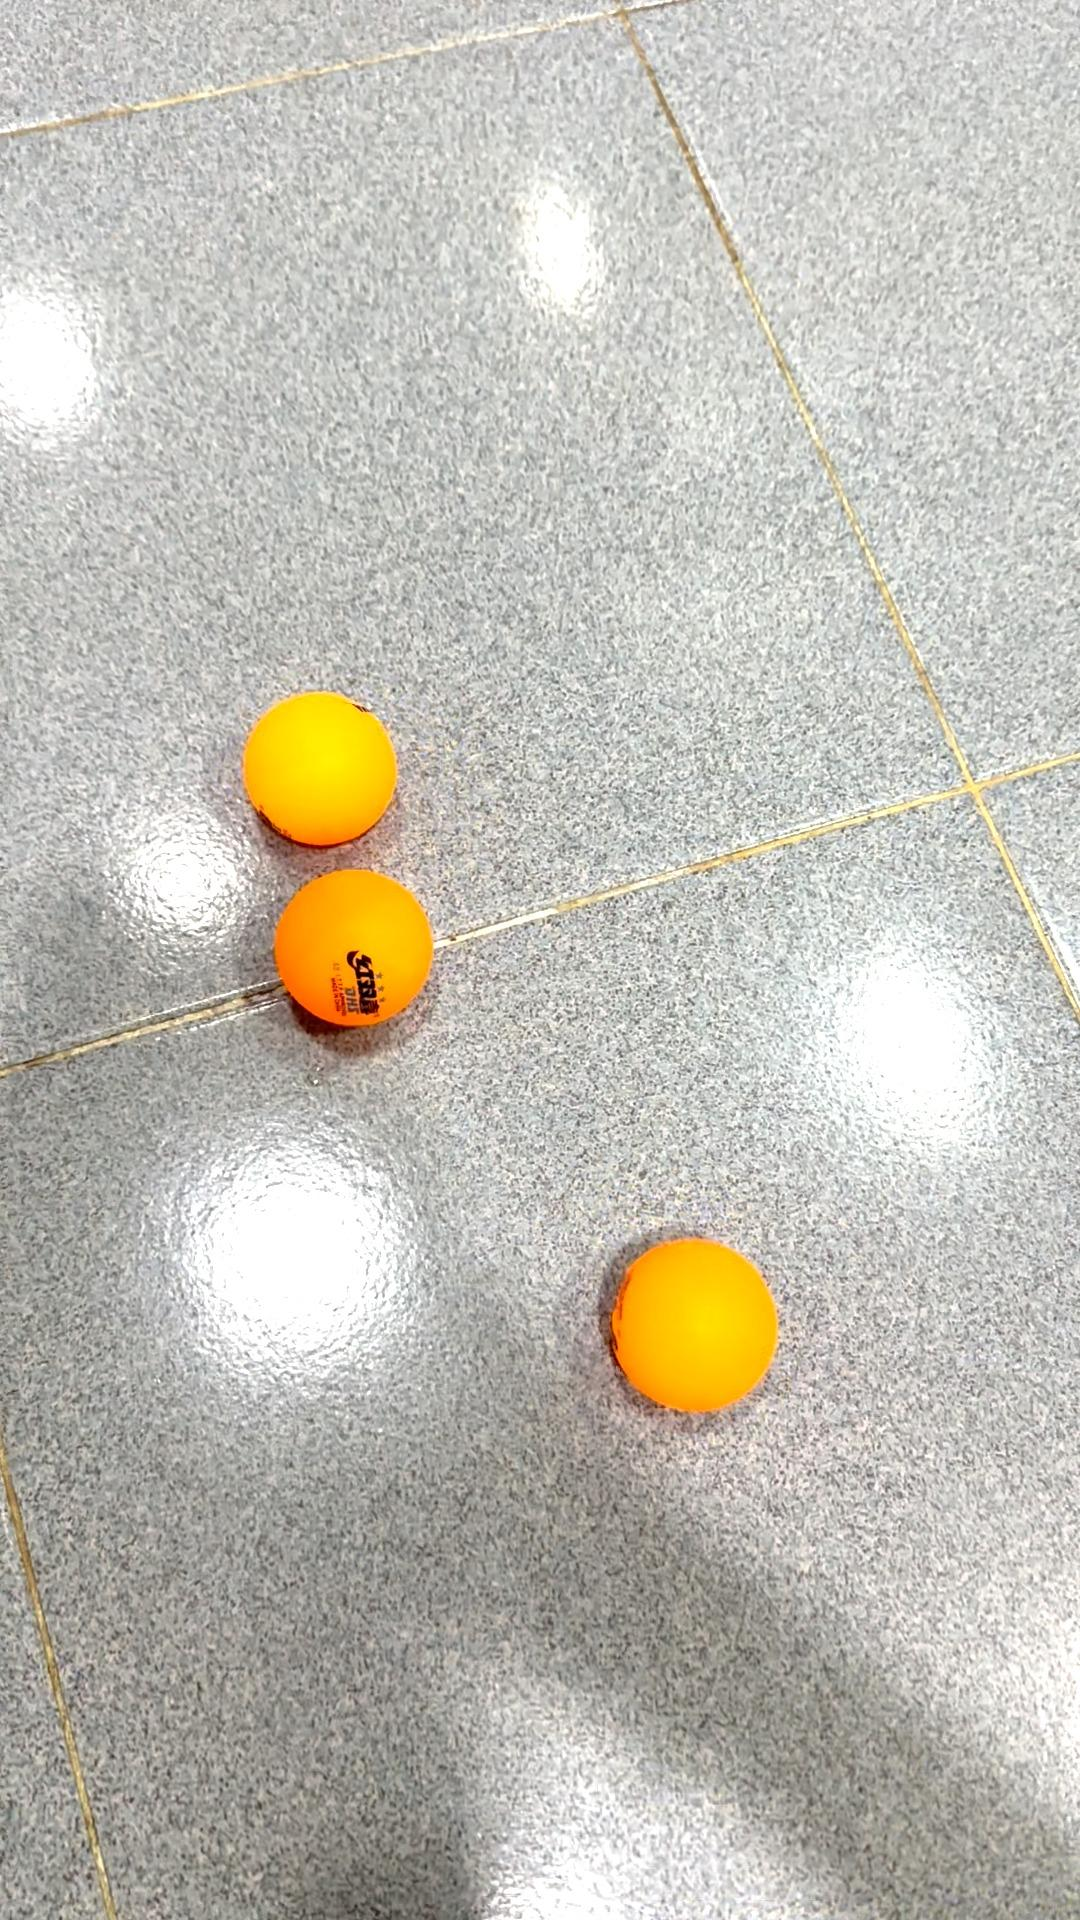oball: (604, 1221, 799, 1432), (265, 874, 452, 1042), (235, 688, 413, 857)
